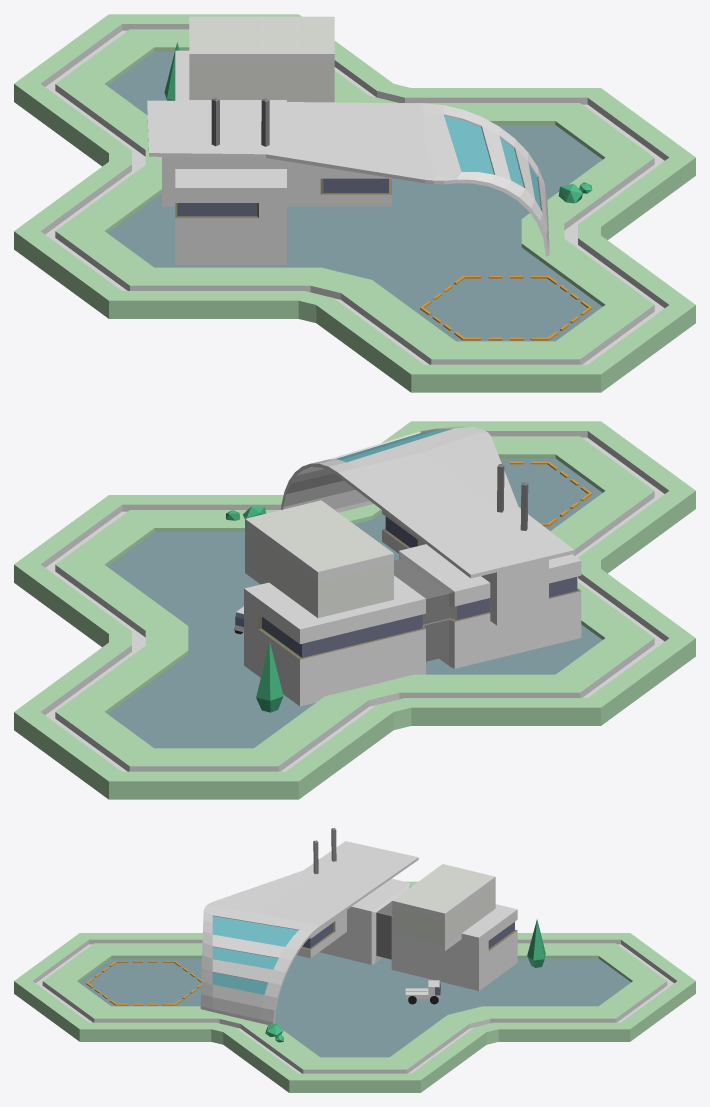
The model's file is Role_Seed_LV2.fbx.
3 renders of one model, top to bottom at view 1: azimuth 30°, elevation 25°; view 2: azimuth 150°, elevation 25°; view 3: azimuth 270°, elevation 25°, orthographic. The views are drawn at different scales.
Visible parts, largest first — view 1: 立方体; view 2: 立方体; view 3: 立方体.
Part boxes in pixels (<box>): 立方体: <box>14,14,695,392</box>; 立方体: <box>14,421,695,799</box>; 立方体: <box>14,828,695,1092</box>.
Bounding box in the file's own units: 336 × 93.28 × 488.
